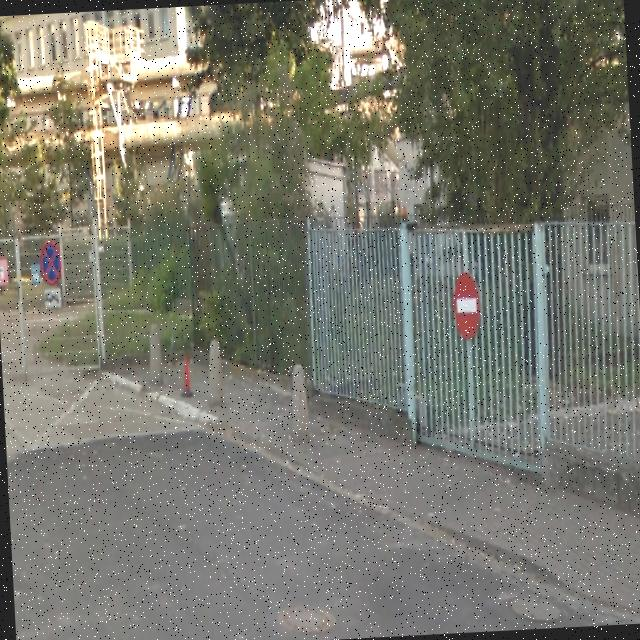Zakaz wjazdu: (451, 268, 482, 340)
Zakaz zatrzymywania sie: (38, 239, 64, 286)
